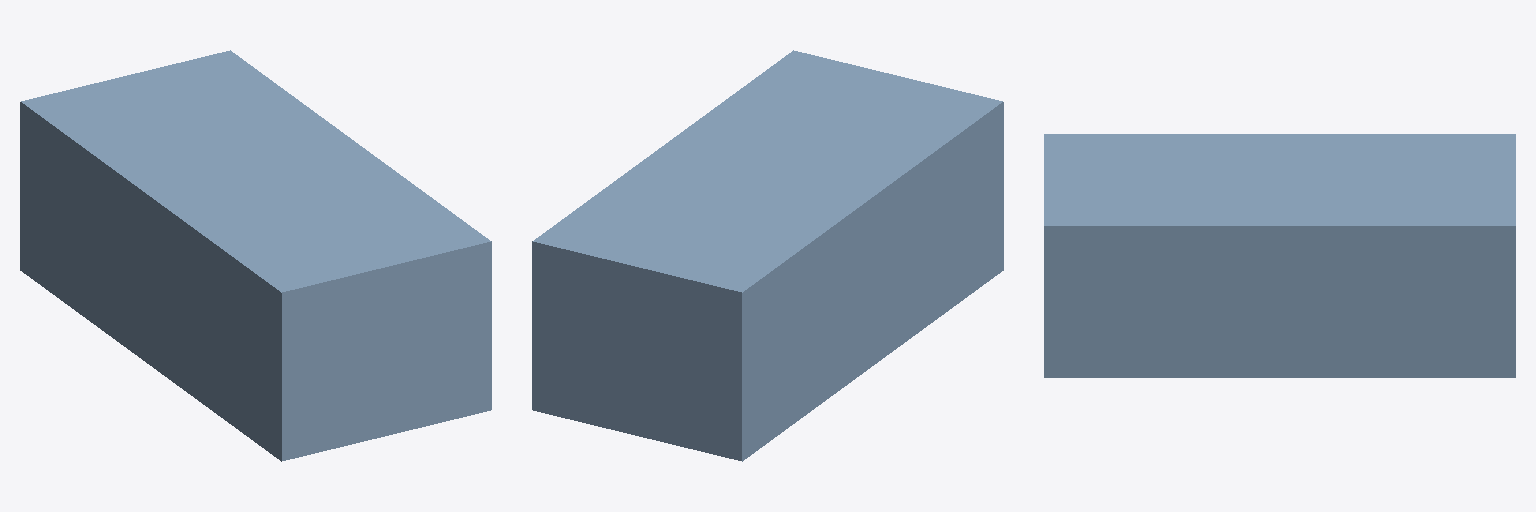
URDF robot description (simplecar):
<?xml version="1.0"?> 
<robot name="simplecar">
    <!-- Colors --> 
    <material name="black"> 
        <color rgba="0 0 0 1"/>
    </material>
    <material name="blue"> 
        <color rgba="0.6 0.7 0.8 1"/>
    </material>


    <!-- Base Frame of Car --> 
    <!-- Local frame is X up, Y left, and Z out -->
    <link name="base_link">
        <visual> 
            <geometry> 
                <box size="0.13 0.28 0.1"/>
            </geometry>
            <material name="blue"/>
        </visual>
        <collision>
            <geometry>
            
            <box size="0.13 0.28 0.1"/>
            </geometry>
        </collision>
        <inertial> 
        
            <mass value="6"/>
            <inertia ixx="0.2" ixy="0" ixz="0" iyy="0.2" iyz="0.0" izz="0.2"/>
        </inertial> 
    </link> 
    
</robot>

--- Facts derived from the render (not from the file) ---
The picture shows the robot from 3 angles, left to right: view 1: azimuth 30°, elevation 25°; view 2: azimuth 150°, elevation 25°; view 3: azimuth 270°, elevation 25°; orthographic projection.
Model simplecar with 1 links and 0 joints (none), rooted at base_link, posed every joint at zero.
Links seen in each view (by area): view 1: base_link; view 2: base_link; view 3: base_link.
Boxes of the visible links, x1,y1,x2,y2 form: base_link: (20,50,491,461); base_link: (532,50,1003,461); base_link: (1044,134,1515,377).
Bounding box of the posed robot: 0.13 × 0.28 × 0.1 m (x, y, z).
Geometry: primitives only (box / cylinder / sphere), no mesh files.